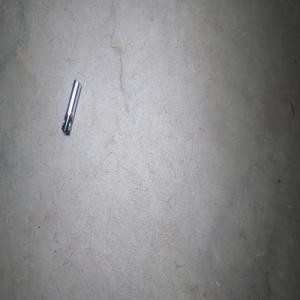Battery: (61, 78, 81, 135)
